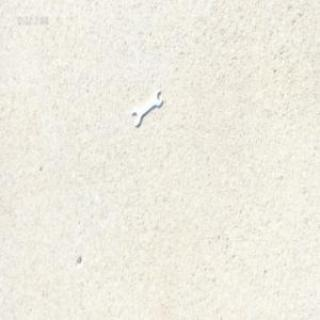Wrenchtrack_idkeyframe: (131, 88, 163, 126)
